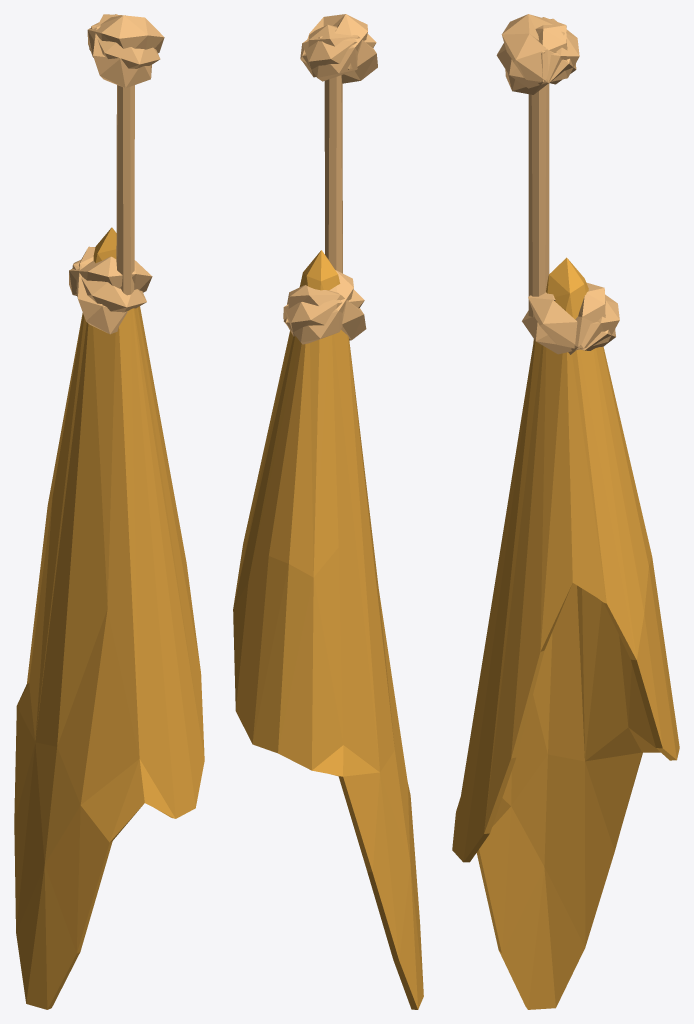
File: SFM_FS_Fabric_Hanged_001.fbx
3 views of the same model, side by side, from view 1: azimuth 30°, elevation 25°; view 2: azimuth 150°, elevation 25°; view 3: azimuth 270°, elevation 25° (orthographic). The views are drawn at different scales.
Parts seen in each view (by area): view 1: SFM_FS_Fabric_Hanged_001; view 2: SFM_FS_Fabric_Hanged_001; view 3: SFM_FS_Fabric_Hanged_001.
Part boxes in pixels (box(x1,y1,x2,y2)): SFM_FS_Fabric_Hanged_001: box(14, 14, 204, 1009); SFM_FS_Fabric_Hanged_001: box(233, 14, 423, 1009); SFM_FS_Fabric_Hanged_001: box(452, 14, 679, 1009).
Bounding box in the file's own units: 19.56 × 118 × 23.54.
